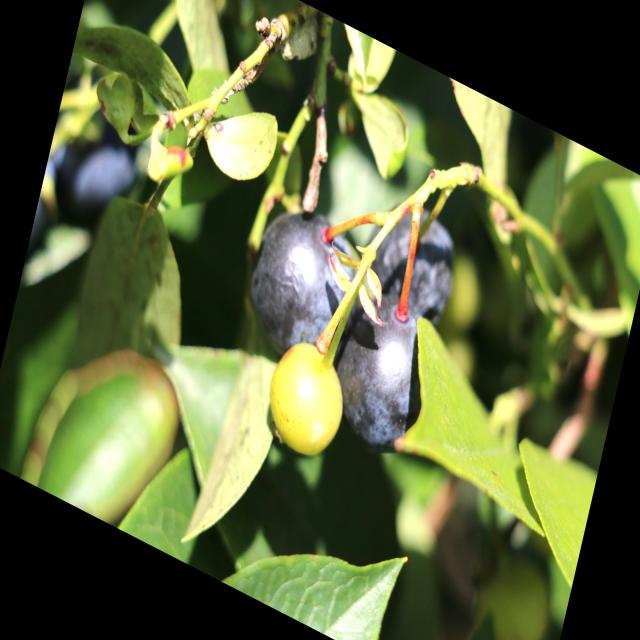blueberry: (237, 188, 369, 386), (323, 283, 439, 461), (358, 188, 462, 322)
blueberry-unripe: (262, 329, 356, 468)
